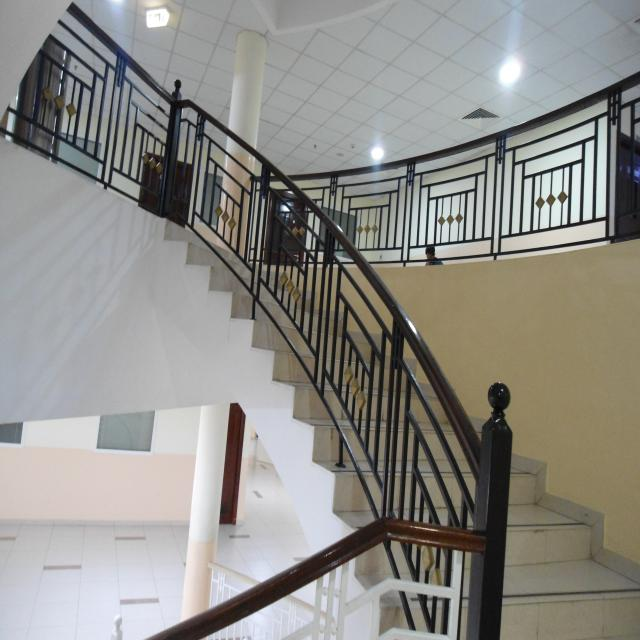railing: (167, 95, 510, 640), (194, 131, 640, 266), (124, 503, 494, 640), (0, 0, 174, 210)
stairs: (178, 228, 640, 640)
